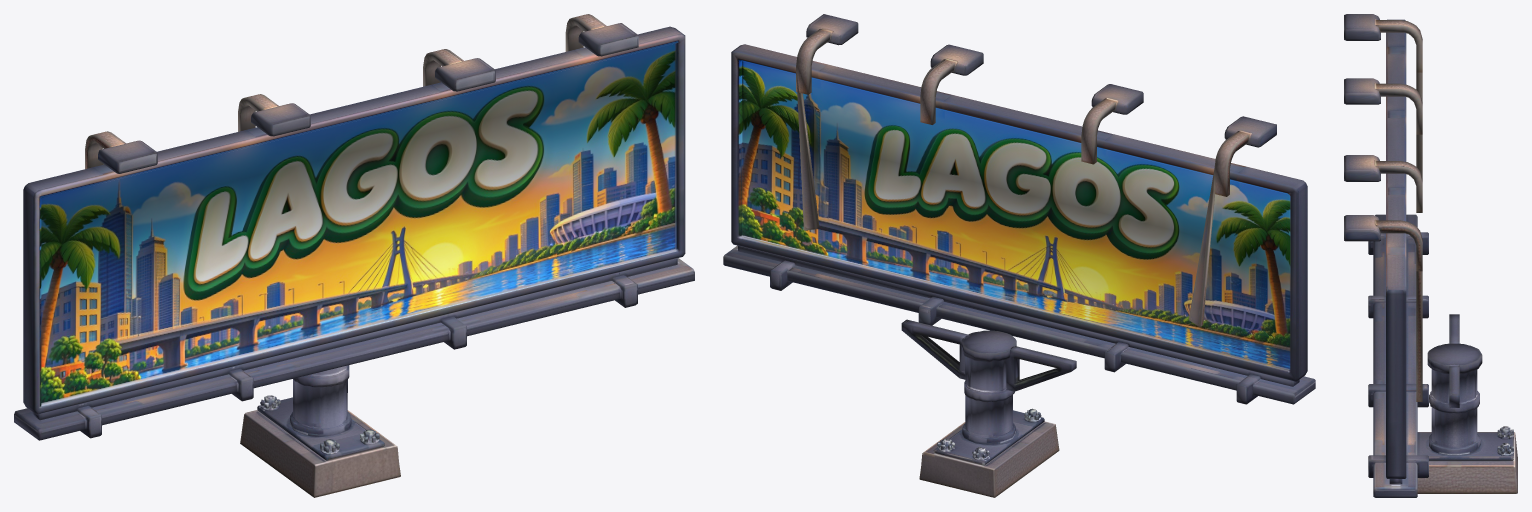
Rendered from billboard.fbx.
3 views of the same model, side by side, from view 1: azimuth 30°, elevation 25°; view 2: azimuth 150°, elevation 25°; view 3: azimuth 270°, elevation 25° (orthographic). The views are drawn at different scales.
Parts seen in each view (by area): view 1: tripo_node_dfba4355; view 2: tripo_node_dfba4355; view 3: tripo_node_dfba4355.
Part boxes in pixels (x1,y1,x2,y2): tripo_node_dfba4355: [14, 14, 694, 497]; tripo_node_dfba4355: [723, 14, 1315, 497]; tripo_node_dfba4355: [1344, 14, 1517, 497].
Size of the model in its own units: 0.998 by 0.5957 by 0.2676.
